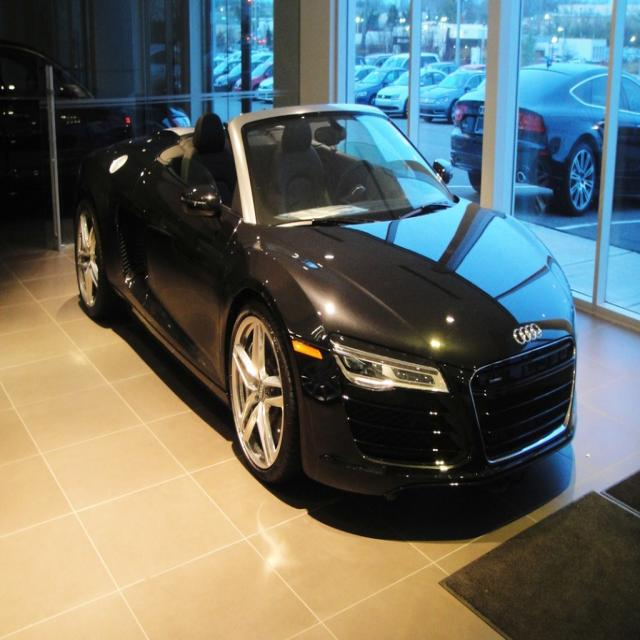car: (74, 100, 577, 501)
